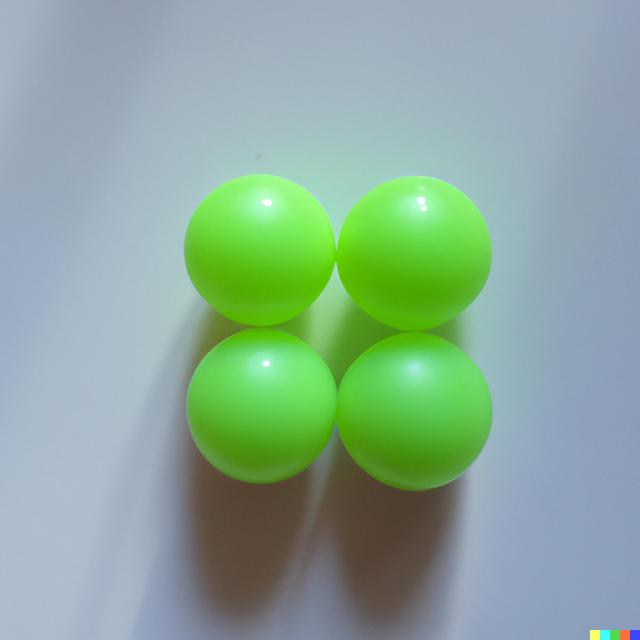green-golf-balls: (338, 332, 492, 492), (338, 176, 493, 332), (187, 327, 339, 485), (183, 174, 336, 328)
